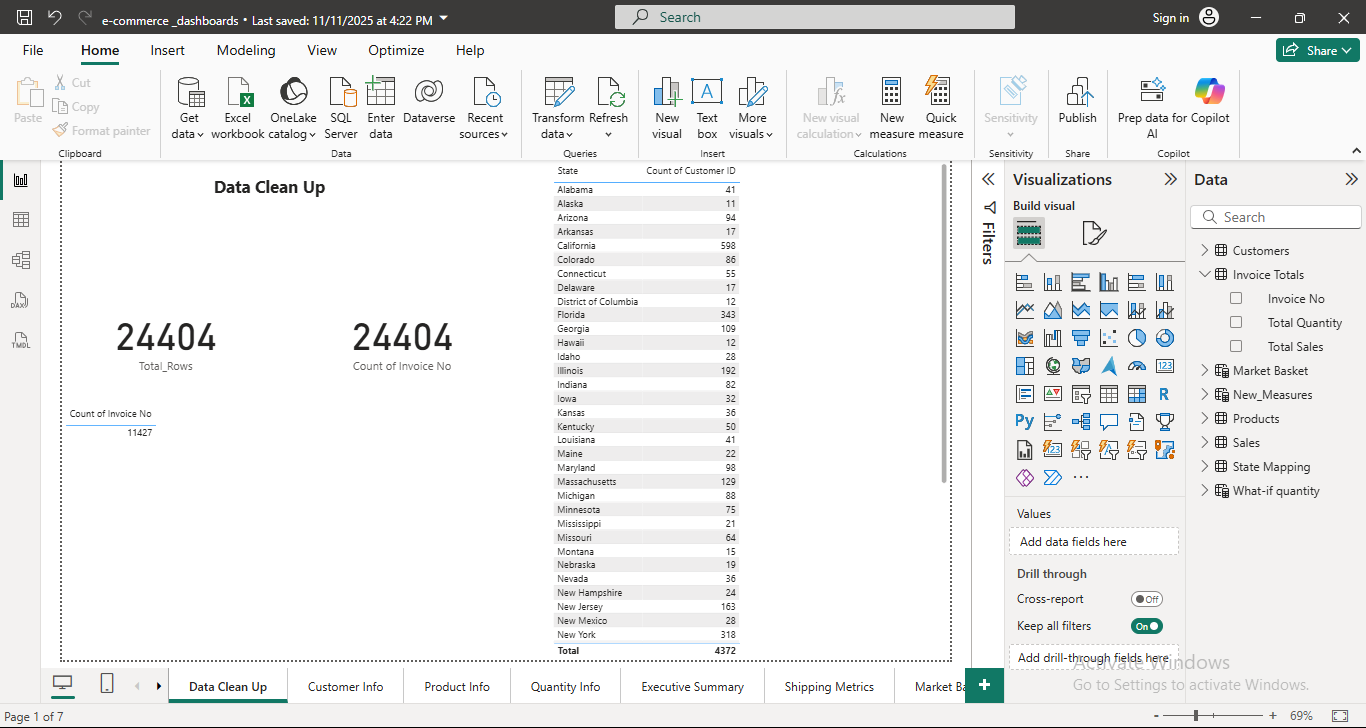

The page's visual inventory and layout, read from the dashboard file:
{"tool":"powerbi","page":{"name":"Data Clean Up","canvas":[1280,720],"ordinal":0},"visuals":[{"type":"card","fields":{"Values":["Sales.Total_Rows"]},"box":[0,166,299,184],"z":0},{"type":"card","fields":{"Values":["Sales.Invoice No"]},"box":[340,166,300,184],"z":1000},{"type":"tableEx","fields":{"Values":["State Mapping.State","Customers.Customer ID"]},"box":[703,0,577,719.6],"z":2000},{"type":"textbox","box":[9,16,580,55],"z":2001}]}

Visuals, with their boxes on the page's 1280x720 design canvas (x1, y1, x2, y2). These are canvas units, not pixel positions in the 1366x728 screenshot, which may show the page scaled, cropped or inside an application window:
card - Sales.Total_Rows: pyautogui.locateOnScreen(0, 166, 299, 350)
card - Sales.Invoice No: pyautogui.locateOnScreen(340, 166, 640, 350)
tableEx - State Mapping.State x Customers.Customer ID: pyautogui.locateOnScreen(703, 0, 1280, 720)
textbox: pyautogui.locateOnScreen(9, 16, 589, 71)
